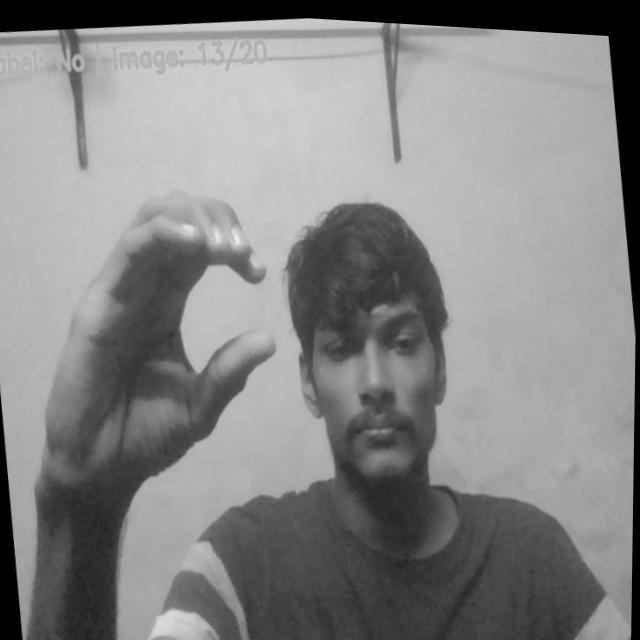No: (3, 168, 298, 517)
